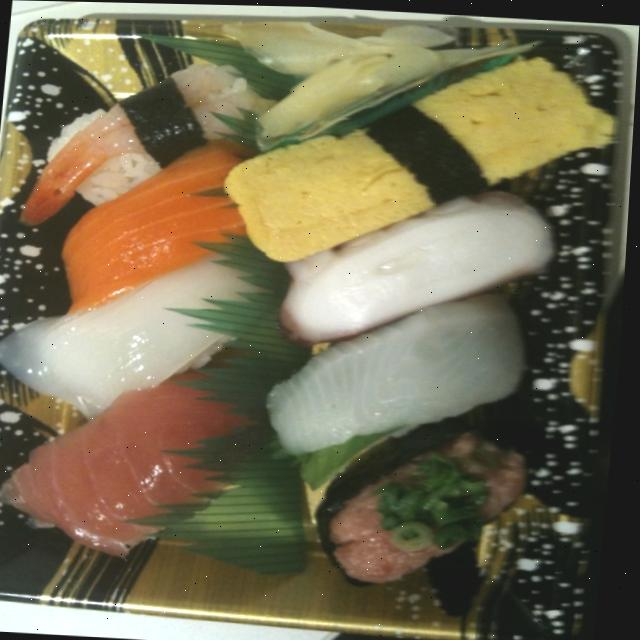寿司卷物: (0, 3, 606, 640)
